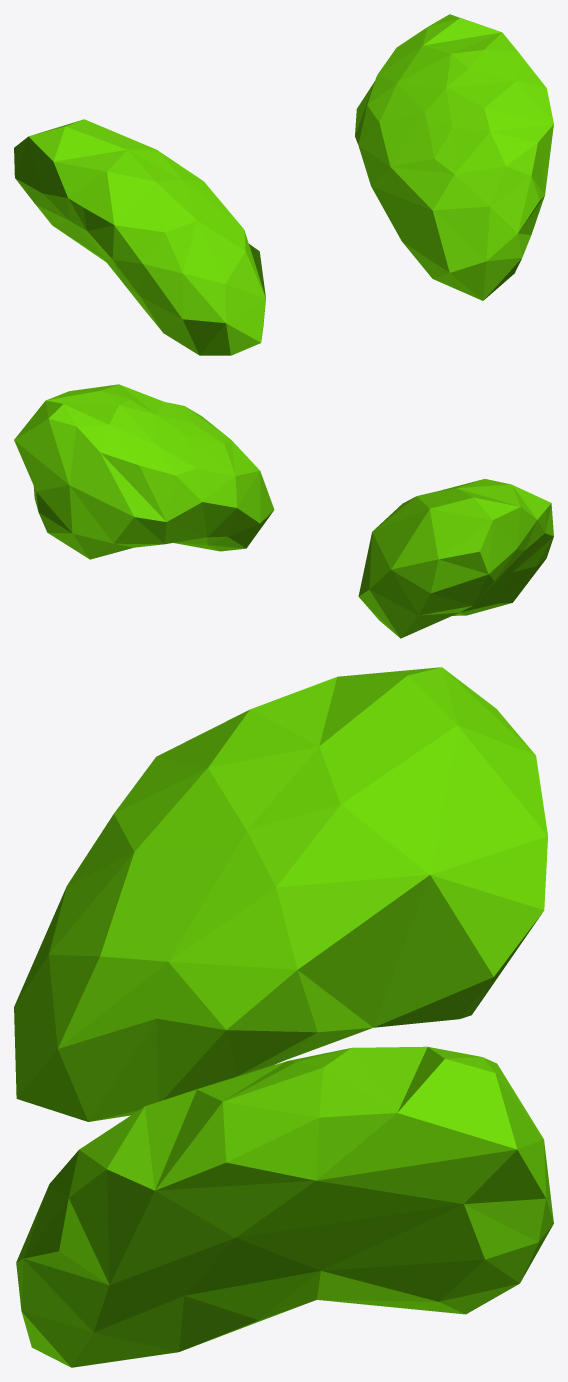
File: 128-AV-anteroventral thalamic nucleus-('0.4980', '1.0000', '0.0000').obj
3 renders of one model, top to bottom at view 1: azimuth 30°, elevation 25°; view 2: azimuth 150°, elevation 25°; view 3: azimuth 270°, elevation 25°, orthographic. The views are drawn at different scales.
Size of the model in its own units: 45.24 by 17.08 by 22.74.
